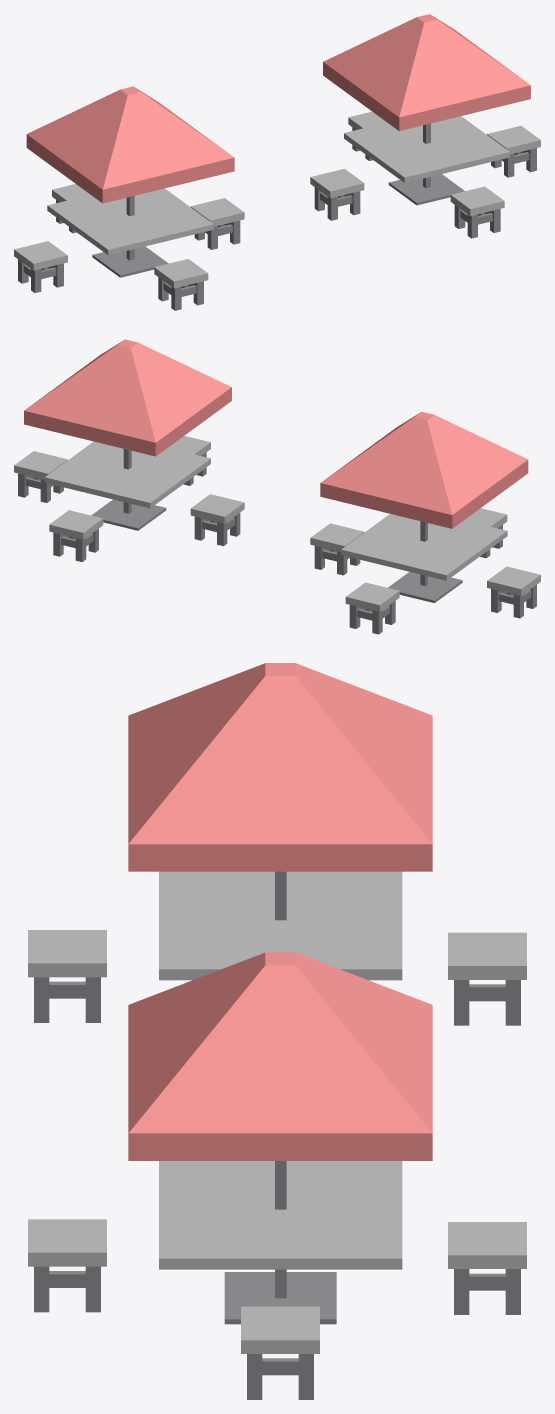
Rendered from auxillary_tables.fbx.
The picture shows the model from 3 angles, top to bottom: view 1: azimuth 30°, elevation 25°; view 2: azimuth 150°, elevation 25°; view 3: azimuth 270°, elevation 25°; orthographic projection. The views are drawn at different scales.
Visible parts, largest first — view 1: auxillary_tables; view 2: auxillary_tables; view 3: auxillary_tables.
Part boxes in pixels (left/top/right/bottom): auxillary_tables: left=14, top=14, right=540, bottom=310; auxillary_tables: left=14, top=339, right=540, bottom=634; auxillary_tables: left=28, top=663, right=526, bottom=1399.
Bounding box in the file's own units: 216 × 69.44 × 91.84.
